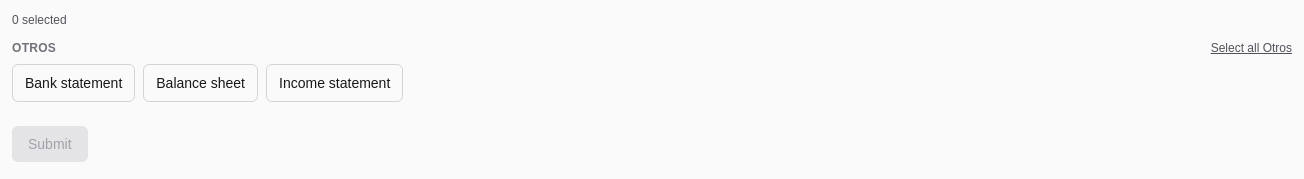
Test: FileTypeChooser › keeps Submit disabled until something is chosen
expect the button "Submit" is disabled: met, box top-left (12, 126), bottom-right (88, 162)
Click the button "Bank statement" at (74, 83), box top-left (12, 64), bottom-right (135, 102)
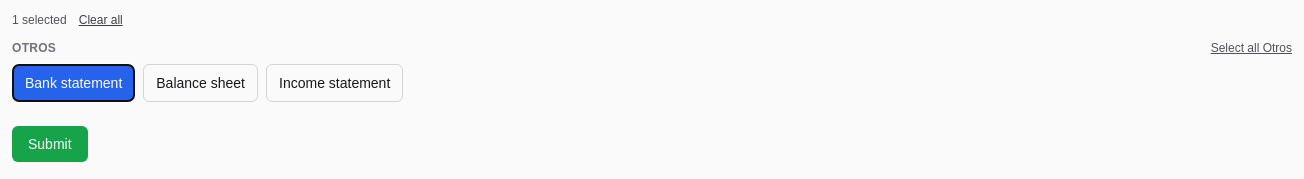
expect the button "Submit" is enabled: met, box top-left (12, 126), bottom-right (88, 162)
